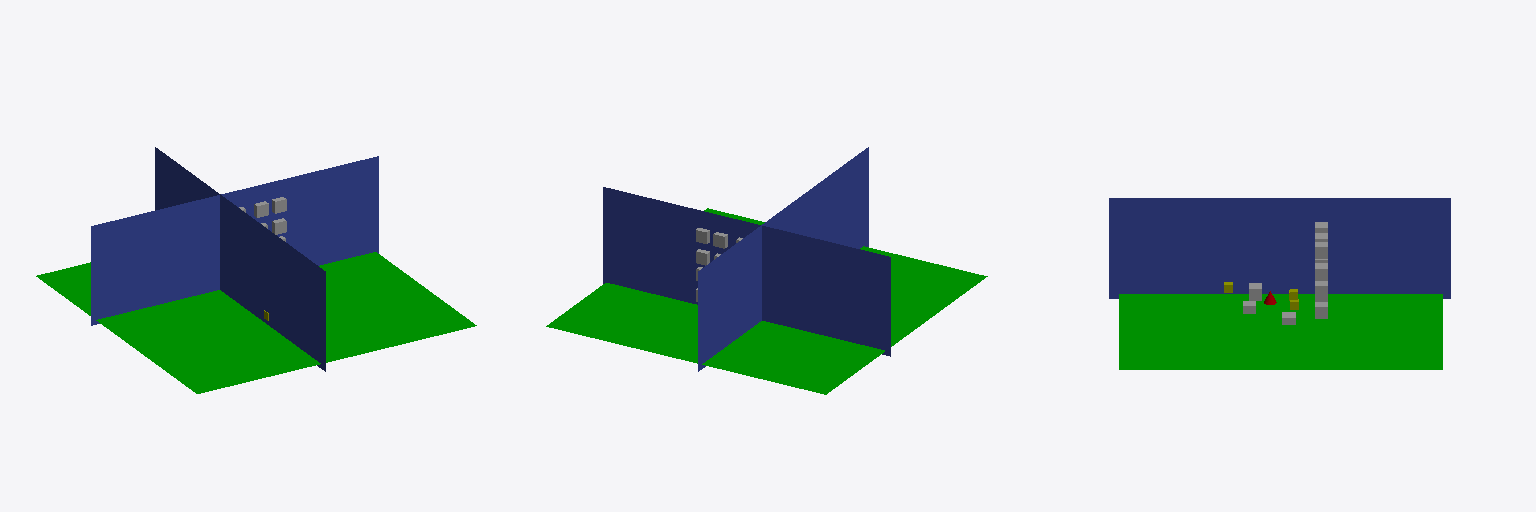
The model's file is mirror4.obj.
3 renders of one model, left to right at view 1: azimuth 30°, elevation 25°; view 2: azimuth 150°, elevation 25°; view 3: azimuth 270°, elevation 25°, orthographic.
Visible parts, largest first — view 1: Plane.001, Plane.002, Plane.003; view 2: Plane.002, Plane.001, Plane.003; view 3: Plane.003, Plane.001.
Boxes of the visible parts, box(x1,y1,x2,y2) form: Plane.001: box(36, 252, 476, 393); Plane.002: box(91, 156, 378, 325); Plane.003: box(155, 147, 325, 371); Plane.002: box(603, 187, 890, 356); Plane.001: box(546, 208, 987, 394); Plane.003: box(698, 147, 868, 371); Plane.003: box(1109, 198, 1450, 298); Plane.001: box(1119, 294, 1442, 369).
Size of the model in its own units: 16.19 by 5.41 by 16.64.